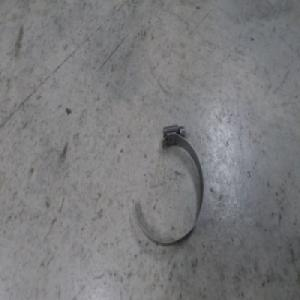AdjustableClamp: (131, 124, 204, 246)
